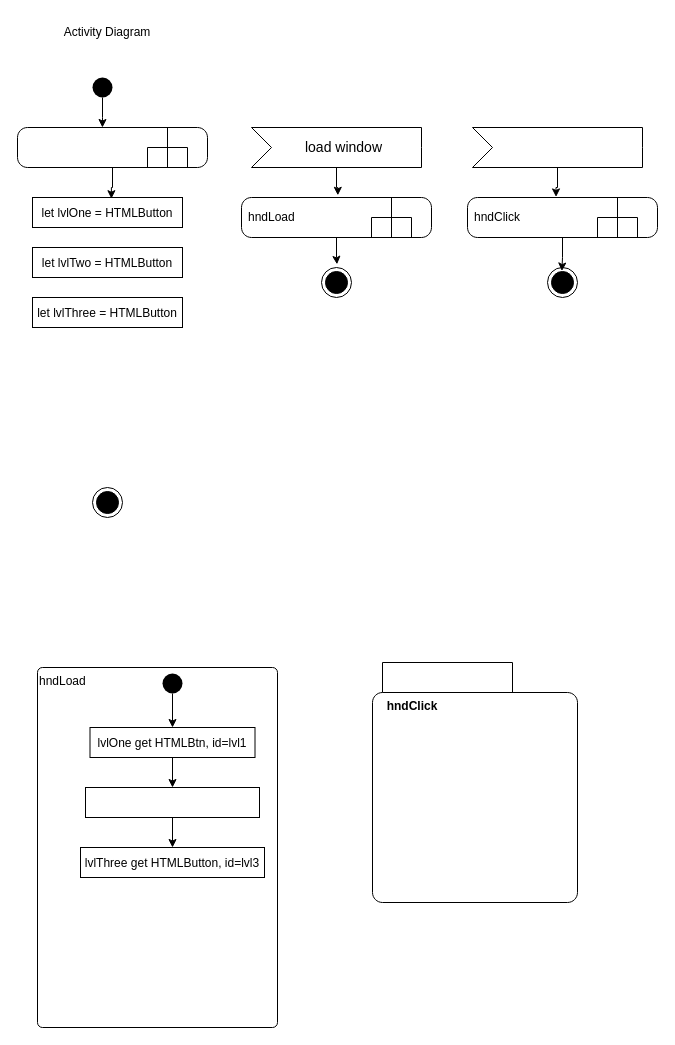
Some shapes in this 675 by 1045 pixel diagram are drawn without their labels. The box of each missing label's shape, as (x1, y1, x2, y2) in pixels:
"click" listener: (472, 126, 642, 168)
_event: HTMLEvent: (372, 662, 578, 902)
Install hndLoad: (16, 126, 208, 168)
lvlTwo get HTMLButton, id=lvl2: (84, 786, 260, 818)
